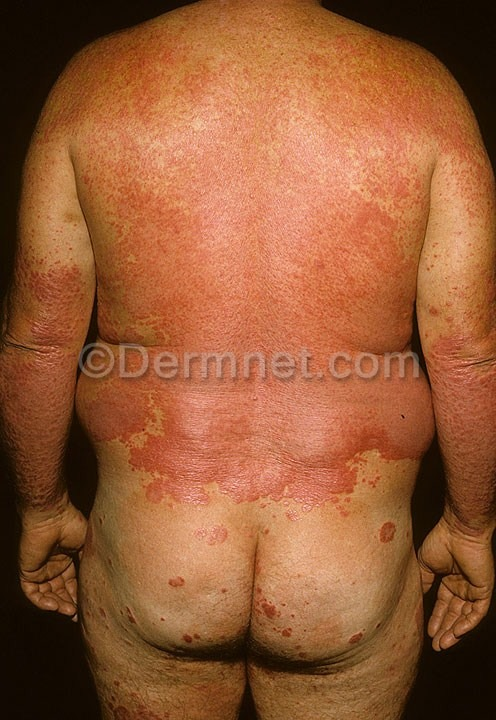Psoriasis: (68, 47, 414, 343), (83, 366, 412, 505), (418, 290, 496, 519), (9, 261, 76, 501), (248, 575, 306, 654), (361, 520, 413, 551), (157, 571, 198, 603)
